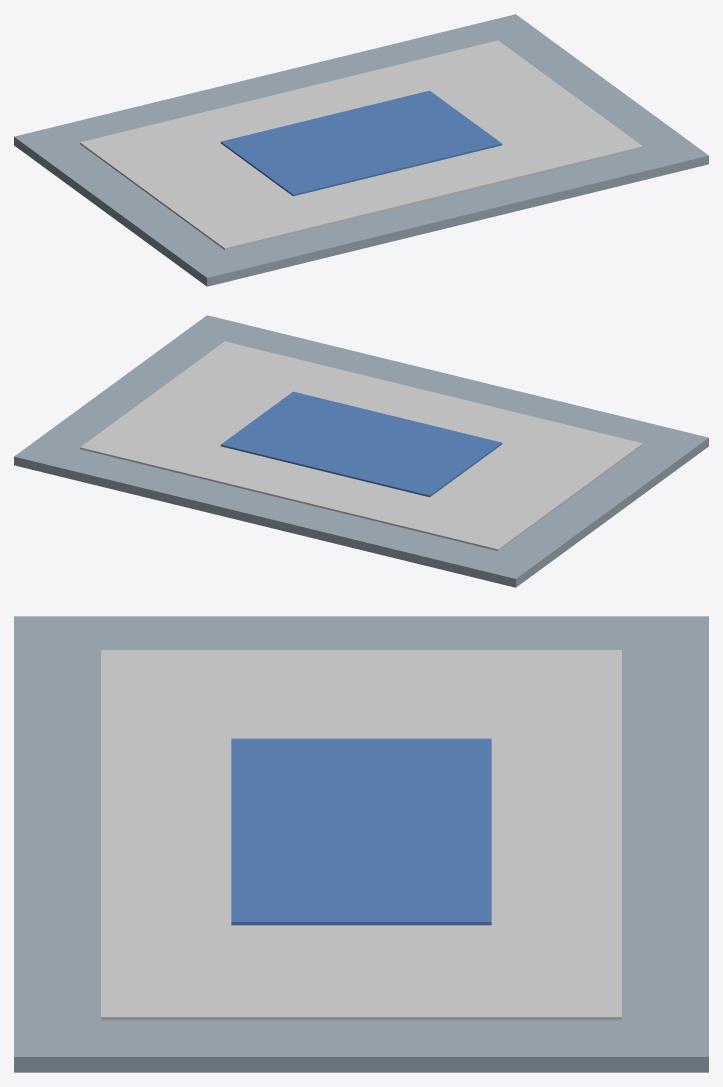
File: piso_tapete_quarto2.glb
3 renders of one model, top to bottom at view 1: azimuth 30°, elevation 25°; view 2: azimuth 150°, elevation 25°; view 3: azimuth 270°, elevation 25°, orthographic. The views are drawn at different scales.
Parts seen in each view (by area): view 1: PISO_TAPETE_QUARTO2_v01; view 2: PISO_TAPETE_QUARTO2_v01; view 3: PISO_TAPETE_QUARTO2_v01.
Boxes of the visible parts, x1=… form: PISO_TAPETE_QUARTO2_v01: x1=14, y1=14, x2=708, y2=286; PISO_TAPETE_QUARTO2_v01: x1=14, y1=315, x2=708, y2=587; PISO_TAPETE_QUARTO2_v01: x1=14, y1=616, x2=708, y2=1072.
Bounding box in the file's own units: 1.2 × 0.028 × 0.8.
